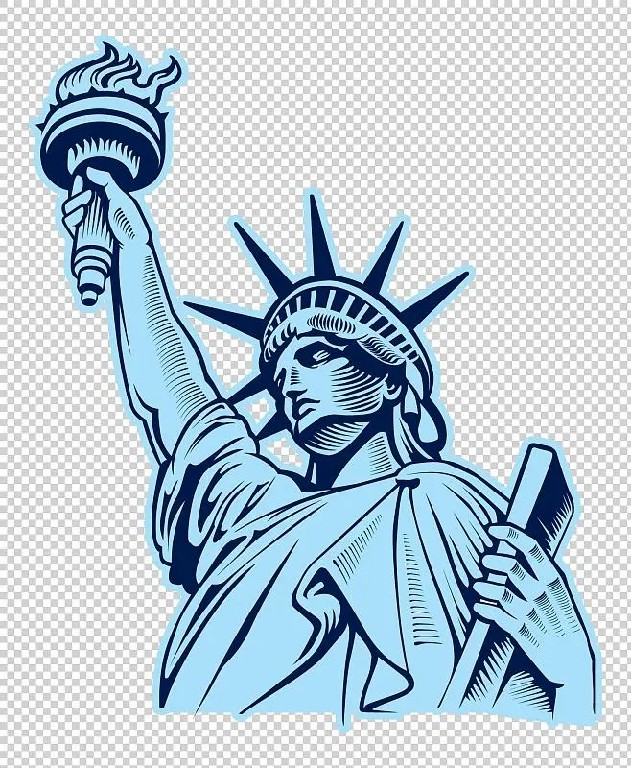SL: (30, 35, 599, 729)
